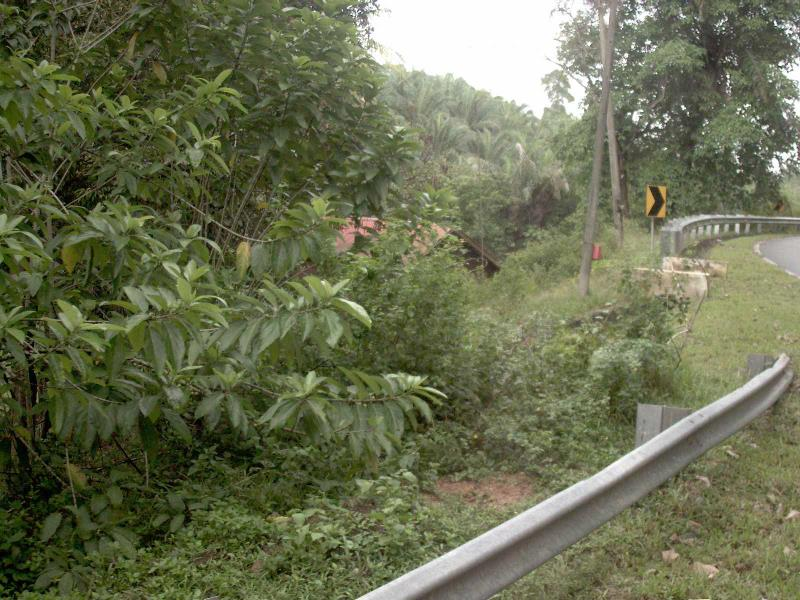traffic_sign: (637, 177, 675, 227)
